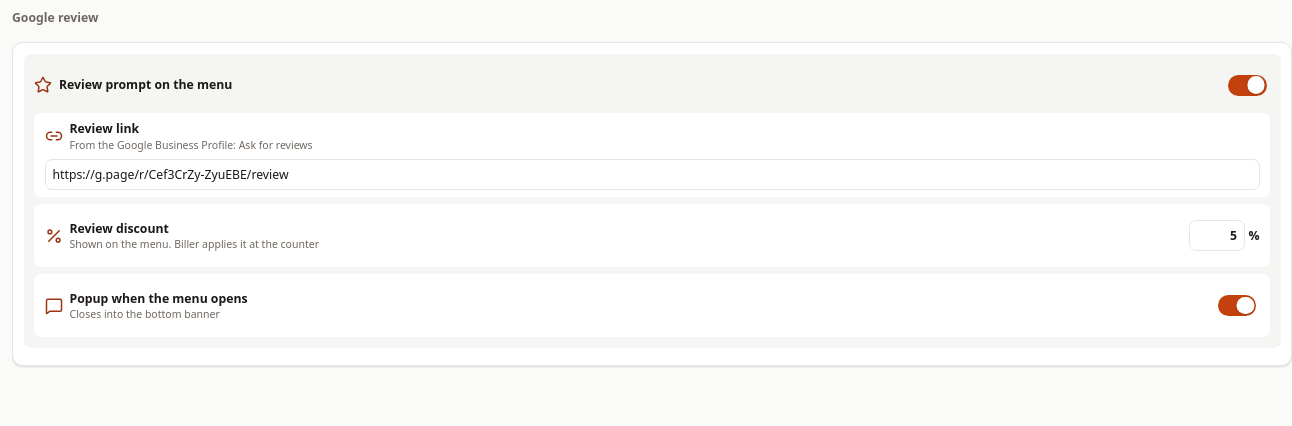
Test case: the Google review section › shows the outlet’s ask, and saves a new review discount
The image size is (1292, 426).
Check: the switch with test id "review-ask-switch" is checked, box [1224, 66, 1270, 104]
Check: the field with test id "review-ask-url" holds "https://g.page/r/Cef3CrZy-ZyuEBE/review", box [44, 158, 1260, 190]
Replace the text in the field with test id "review-ask-percent" with "8" at (1217, 236), box [1189, 220, 1245, 251]
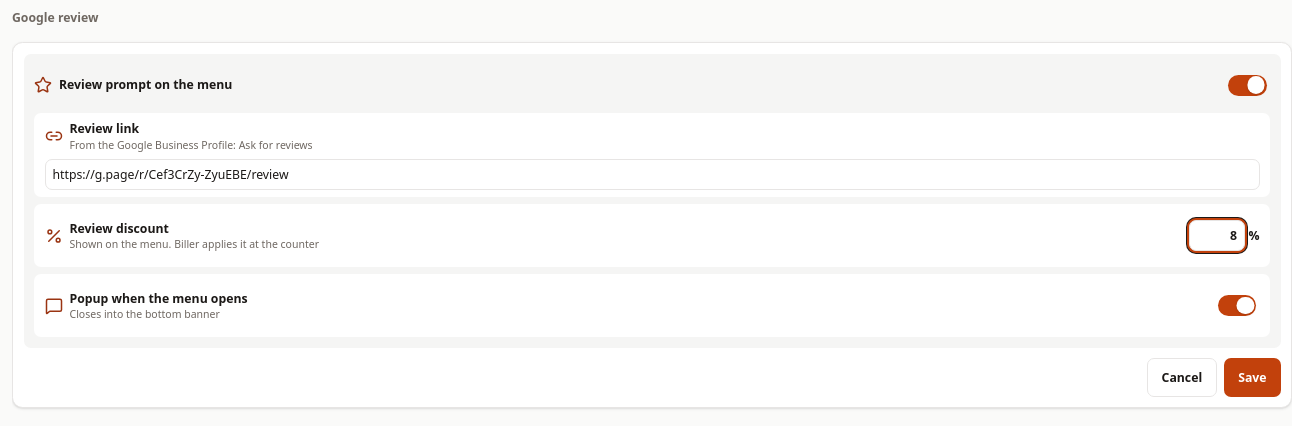
Click the button "Save" at (1252, 377), box [1224, 358, 1280, 396]
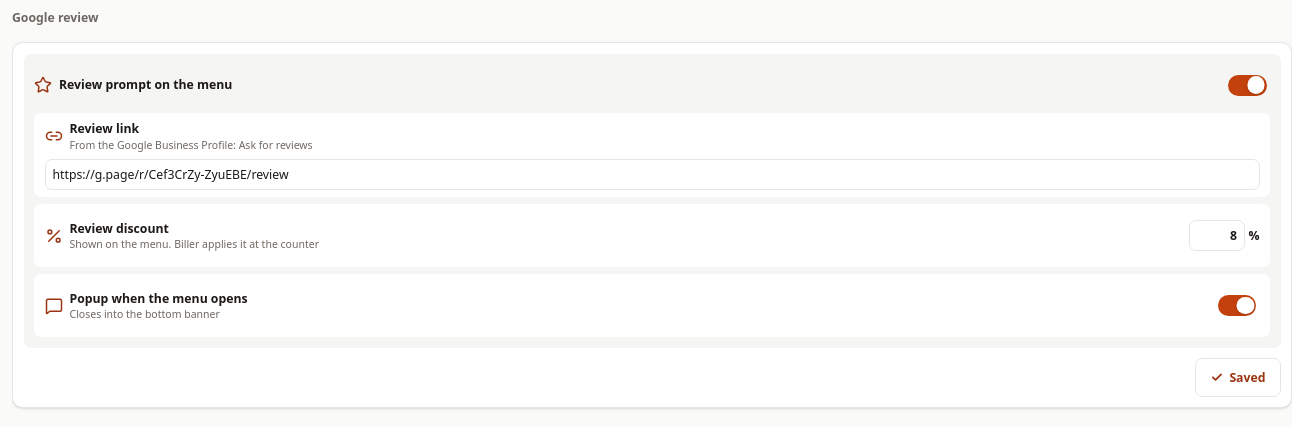
Check: the element with test id "review-ask-saved" is shown, box [1195, 358, 1280, 396]
